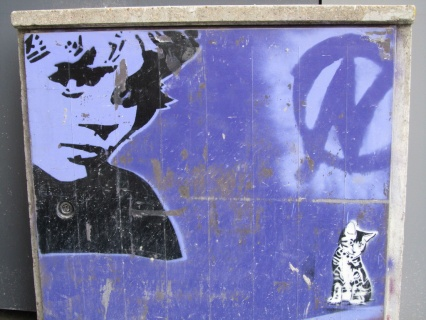Cat: (327, 216, 381, 310)
